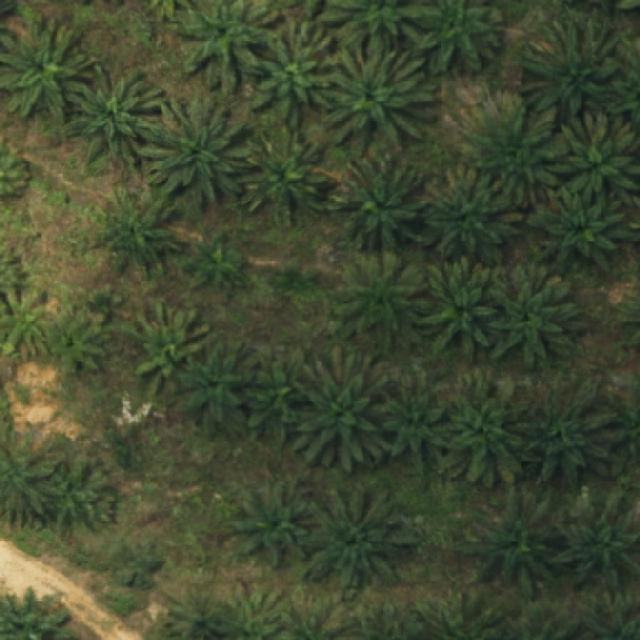Kelapa_Sawit: (446, 89, 571, 209), (140, 95, 258, 213), (326, 44, 440, 164), (463, 488, 579, 603), (298, 483, 418, 594), (62, 63, 169, 183), (292, 347, 392, 475), (514, 18, 624, 125), (514, 378, 618, 491), (420, 162, 526, 267), (488, 260, 586, 372), (328, 252, 430, 358), (439, 370, 530, 488), (248, 14, 338, 132), (325, 155, 430, 250), (88, 182, 188, 280), (412, 253, 498, 362), (236, 124, 326, 227), (528, 183, 627, 274), (546, 110, 640, 204), (120, 298, 212, 393), (179, 338, 256, 440), (234, 477, 314, 568), (244, 344, 307, 444), (382, 376, 452, 459), (37, 458, 114, 530), (187, 231, 251, 294), (46, 309, 105, 376), (0, 287, 49, 361)
